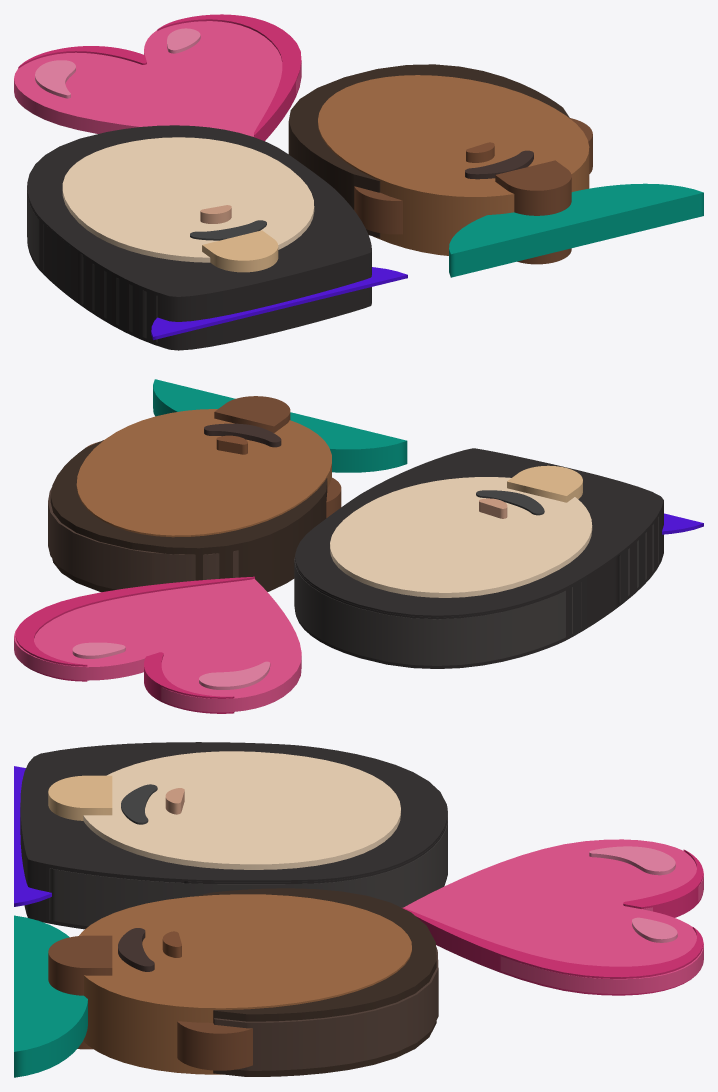
File: emoji_u1f469_1f3fb_200d_2764_200d_1f468_1f3fe.glb
The picture shows the model from 3 angles, top to bottom: view 1: azimuth 30°, elevation 25°; view 2: azimuth 150°, elevation 25°; view 3: azimuth 270°, elevation 25°; orthographic projection. The views are drawn at different scales.
Visible parts, largest first — view 1: emoji_u1f469_1f3fb_200d_2764_200d_1f468_1f3fe; view 2: emoji_u1f469_1f3fb_200d_2764_200d_1f468_1f3fe; view 3: emoji_u1f469_1f3fb_200d_2764_200d_1f468_1f3fe.
Boxes of the visible parts, box(x1,y1,x2,y2) form: emoji_u1f469_1f3fb_200d_2764_200d_1f468_1f3fe: box(14, 14, 703, 350); emoji_u1f469_1f3fb_200d_2764_200d_1f468_1f3fe: box(14, 379, 703, 713); emoji_u1f469_1f3fb_200d_2764_200d_1f468_1f3fe: box(14, 742, 703, 1077).
Size of the model in its own units: 0.0345 by 0.005 by 0.0338.
